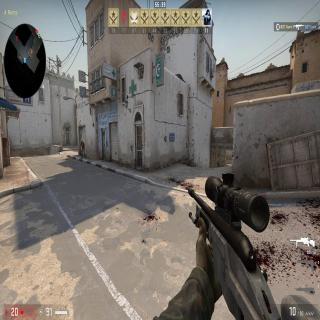T-Body: (80, 138, 86, 160)
T-Head: (81, 138, 83, 142)
